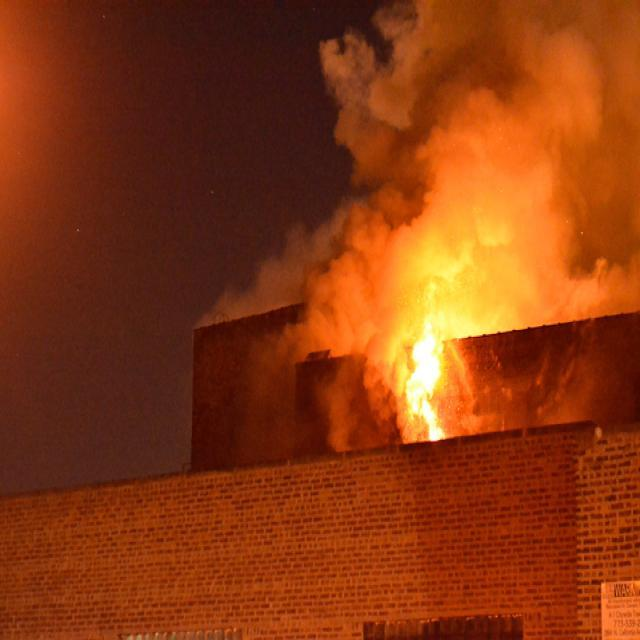Fire: (408, 334, 437, 424)
